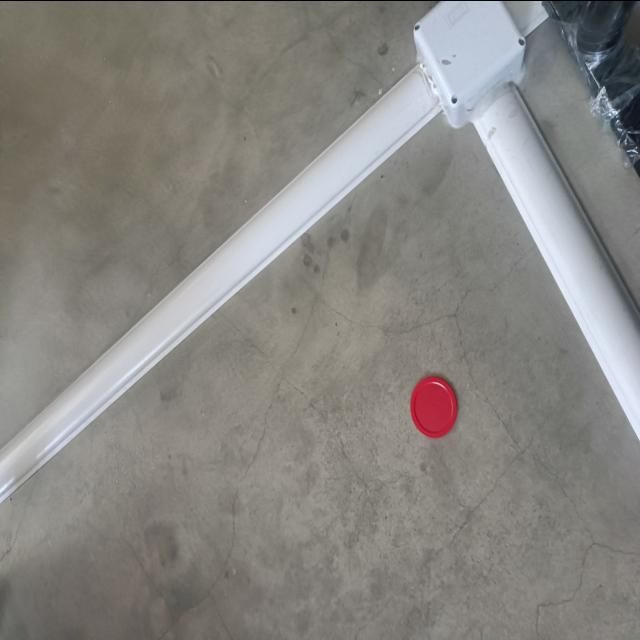chip: (409, 374, 459, 439)
